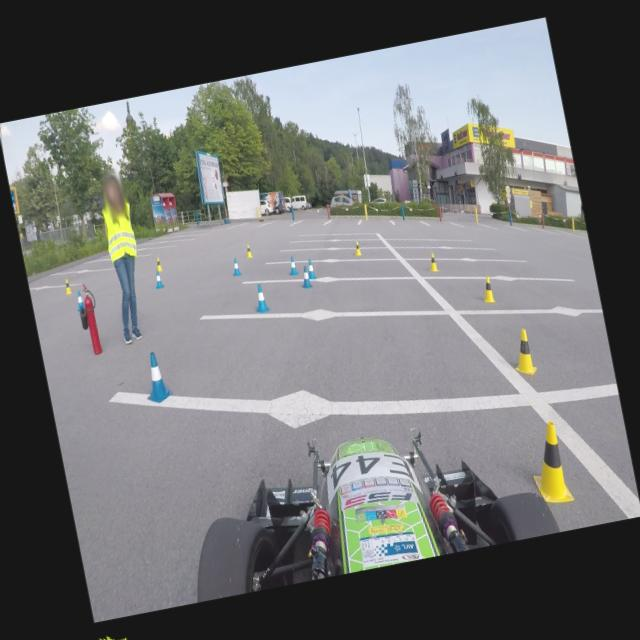blue_cone: (140, 351, 174, 404), (252, 283, 270, 314), (298, 265, 312, 289), (74, 290, 86, 312), (304, 258, 316, 280), (286, 256, 298, 276), (153, 269, 164, 290), (231, 257, 241, 277)
yellow_cone: (524, 420, 576, 505), (507, 327, 539, 379), (479, 276, 496, 304), (427, 252, 440, 273), (62, 278, 72, 294), (244, 244, 254, 259), (154, 258, 163, 274), (353, 240, 362, 256)
